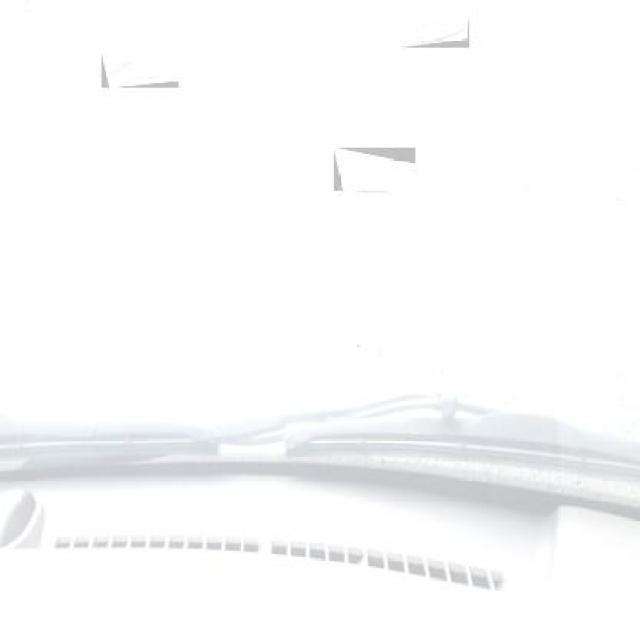Manhole: (334, 147, 416, 190), (102, 51, 178, 88), (400, 18, 469, 48)
